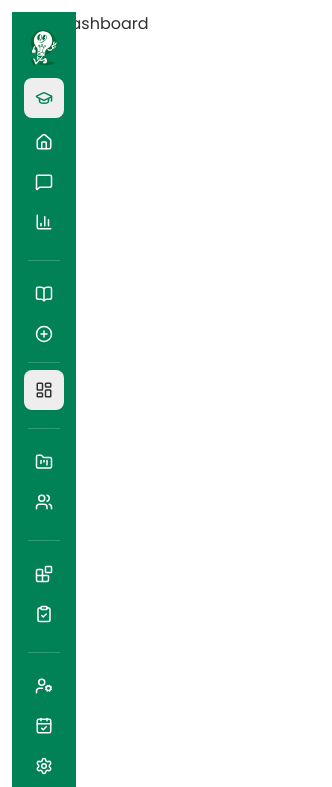
Sidebar › lands on your role's page after switching to a class where this page is not allowed
Click the 1st button named "Alpha". click: click(44, 98)
box: [24,78,64,118]
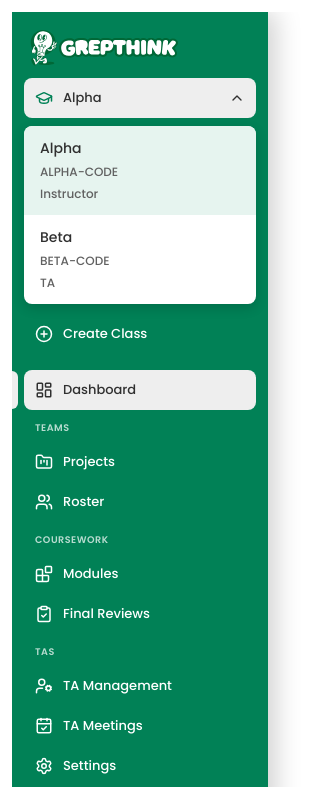
Click the text "Beta". click: click(56, 238)
box: [40,227,72,248]
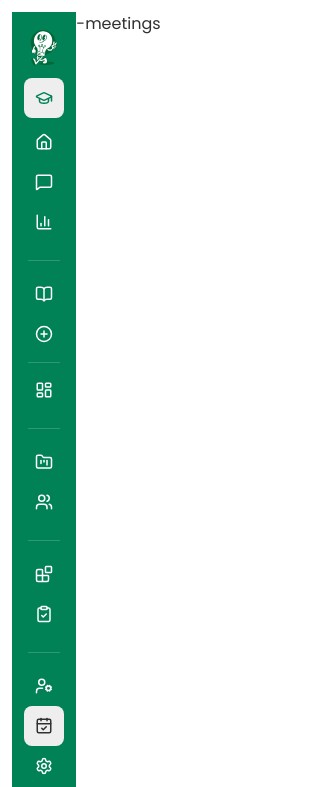
expect the text with test id "path" reads "/app/ta-meetings": met, box [12,12,161,35]
